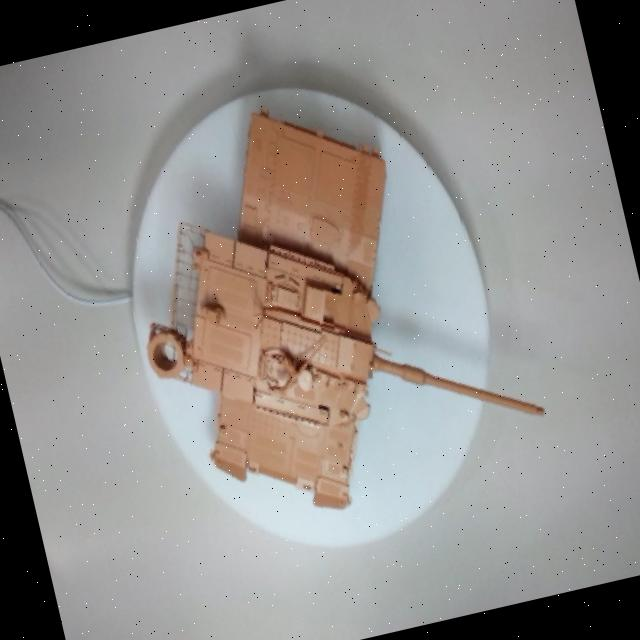korea tank: (103, 58, 611, 573)
